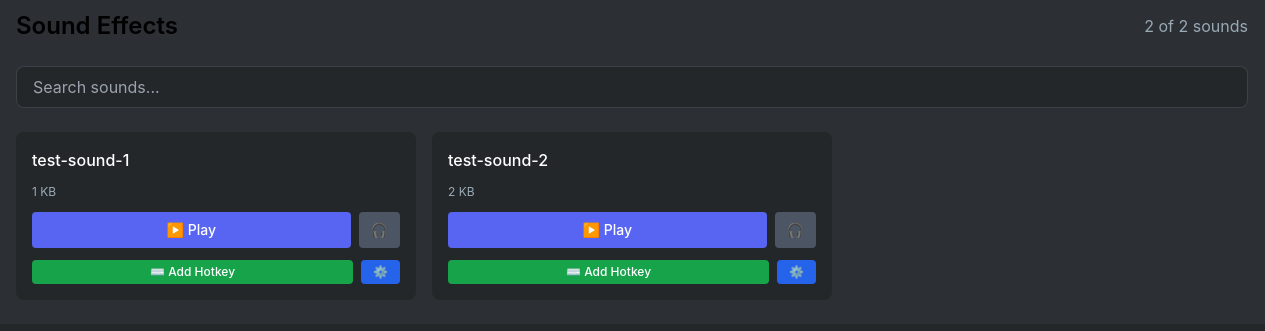
Test: SoundBoard Component › shows no results message when search yields no matches
In the field with placeholder "Search sounds...": x=632, y=87 [16, 66, 1248, 108], type "nonexistent"
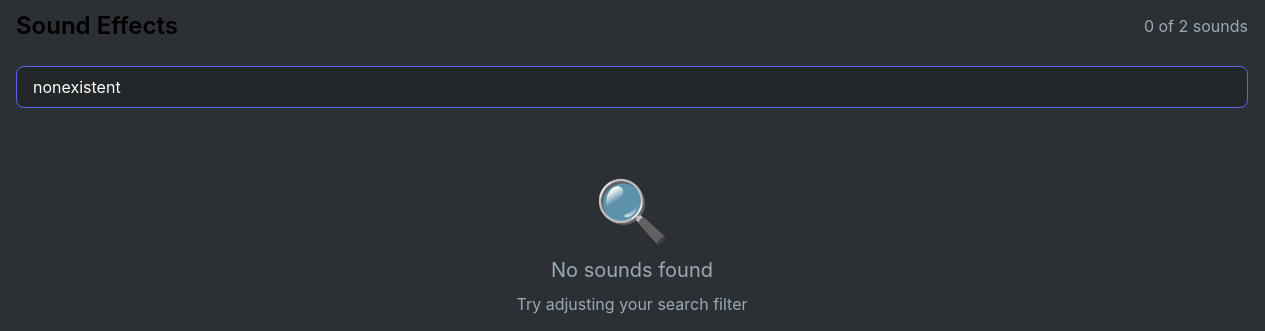
expect the heading "No sounds found" is shown: met, box [551, 258, 713, 282]
expect the text "Try adjusting your search filter" is shown: met, box [516, 294, 748, 314]
